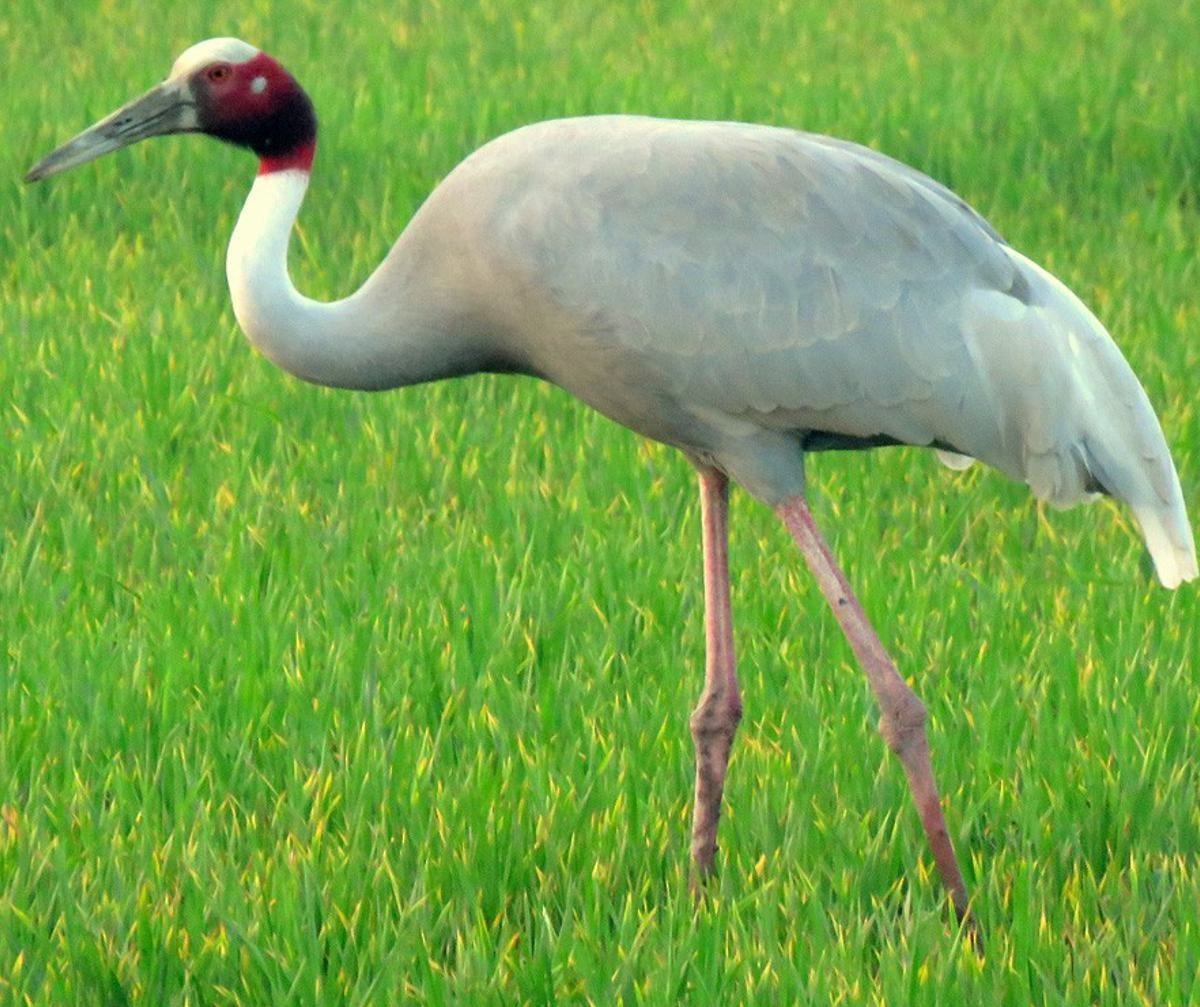crane: (24, 28, 1198, 946)
